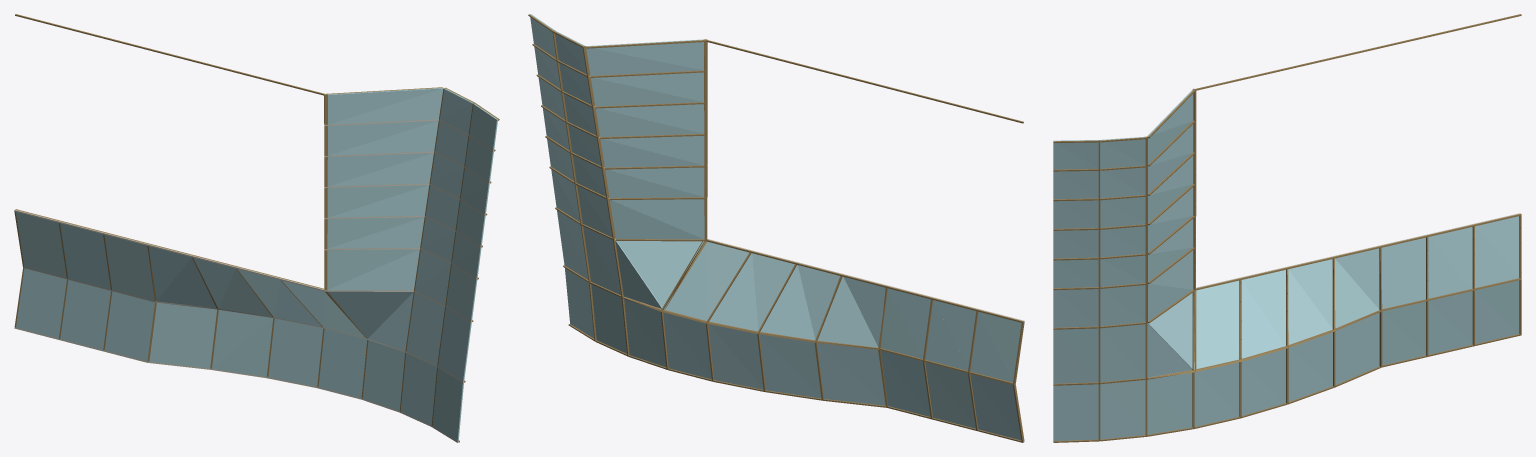
Rendered from G7_Completion_Body_-1_08.glb.
3 renders of one model, left to right at view 1: azimuth 30°, elevation 25°; view 2: azimuth 210°, elevation 25°; view 3: azimuth 270°, elevation 25°, orthographic. The views are drawn at different scales.
Parts seen in each view (by area): view 1: Body_-1_08_G7C3_glass_solid_skin, Body_-1_08_G7C3_shell_solid_skin, Body_-1_08_G7C3_metal_solid_skin, Body_-1_08_G7C3_metal_solid_frame; view 2: Body_-1_08_G7C3_glass_solid_skin, Body_-1_08_G7C3_metal_solid_frame, Body_-1_08_G7C3_metal_solid_skin; view 3: Body_-1_08_G7C3_glass_solid_skin, Body_-1_08_G7C3_metal_solid_frame, Body_-1_08_G7C3_shell_solid_skin.
Boxes of the visible parts, x1,y1,x2,y2 form: Body_-1_08_G7C3_glass_solid_skin: [16, 88, 497, 441]; Body_-1_08_G7C3_shell_solid_skin: [14, 119, 493, 442]; Body_-1_08_G7C3_metal_solid_skin: [14, 88, 474, 425]; Body_-1_08_G7C3_metal_solid_frame: [15, 14, 499, 442]; Body_-1_08_G7C3_glass_solid_skin: [530, 14, 1021, 440]; Body_-1_08_G7C3_metal_solid_frame: [528, 14, 1023, 442]; Body_-1_08_G7C3_metal_solid_skin: [554, 30, 1024, 440]; Body_-1_08_G7C3_glass_solid_skin: [1053, 90, 1519, 440]; Body_-1_08_G7C3_metal_solid_frame: [1053, 14, 1521, 442]; Body_-1_08_G7C3_shell_solid_skin: [1100, 165, 1520, 377].
Bounding box in the file's own units: 39.07 × 45.5 × 60.19.
Materials: 3 (2 with a texture image).
